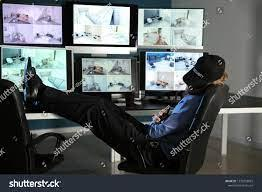sleep: (146, 49, 224, 138)
